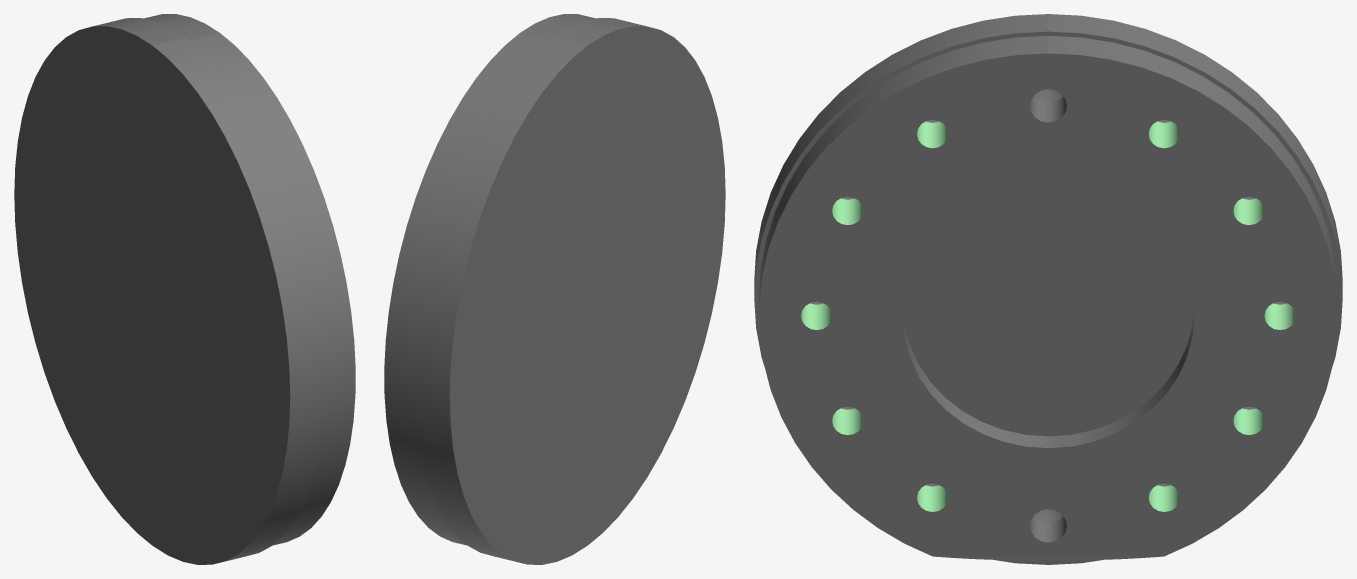
3 renders of one model, left to right at view 1: azimuth 30°, elevation 25°; view 2: azimuth 150°, elevation 25°; view 3: azimuth 270°, elevation 25°, orthographic. The views are drawn at different scales.
Visible parts, largest first — view 1: Mesh_0; view 2: Mesh_0; view 3: Mesh_0.
Boxes of the visible parts, x1,y1,x2,y2 form: Mesh_0: [14, 14, 355, 564]; Mesh_0: [384, 14, 725, 564]; Mesh_0: [754, 14, 1342, 564].
Bounding box in the file's own units: 0.018 × 0.127 × 0.127.
